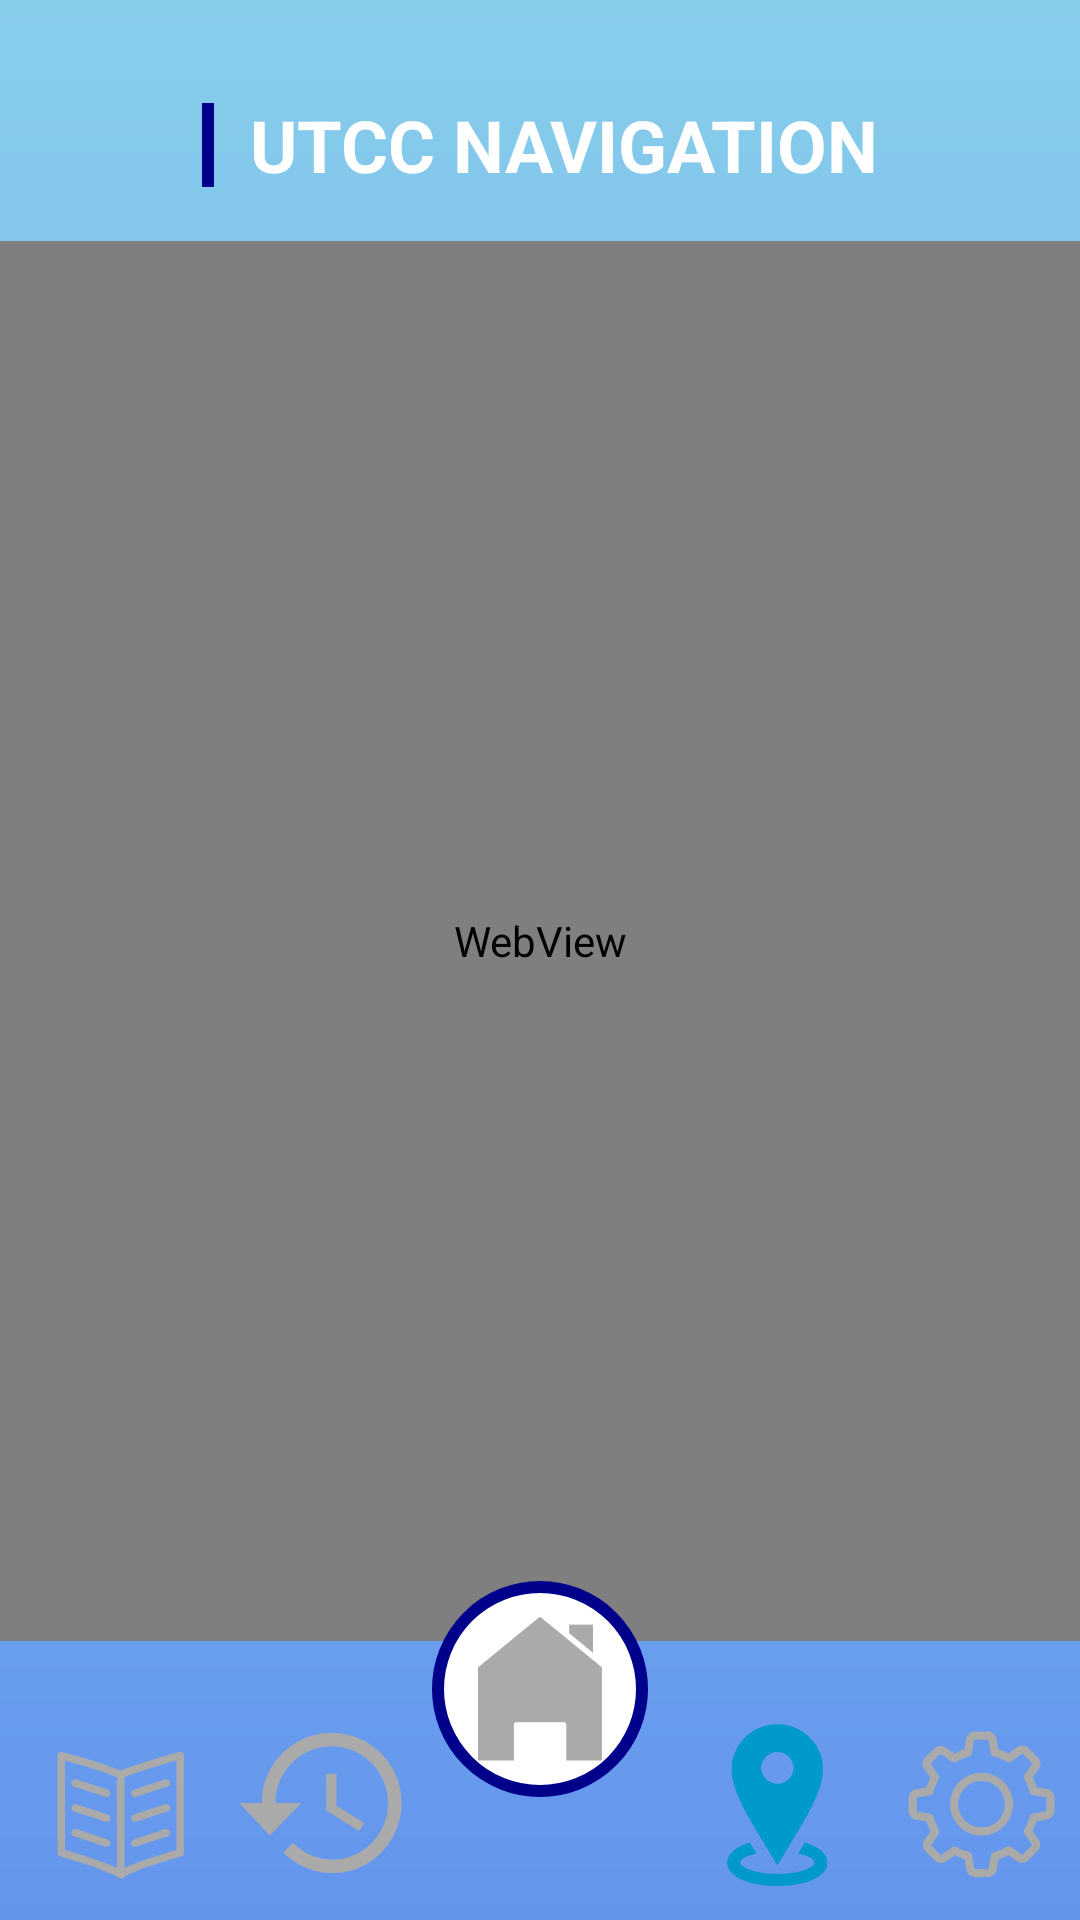

Icons on this 1080px×1920px Android screen, each with its box as (x1, y1, x2, y2):
about: (57, 1752, 184, 1879)
gmap: (727, 1724, 827, 1886)
history: (240, 1733, 402, 1873)
setting: (908, 1731, 1055, 1877)
